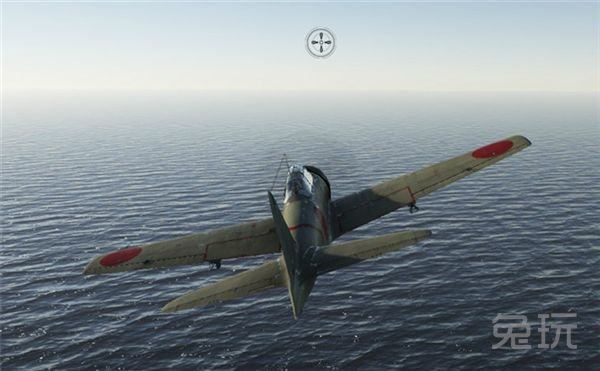airplane: (77, 132, 531, 320)
